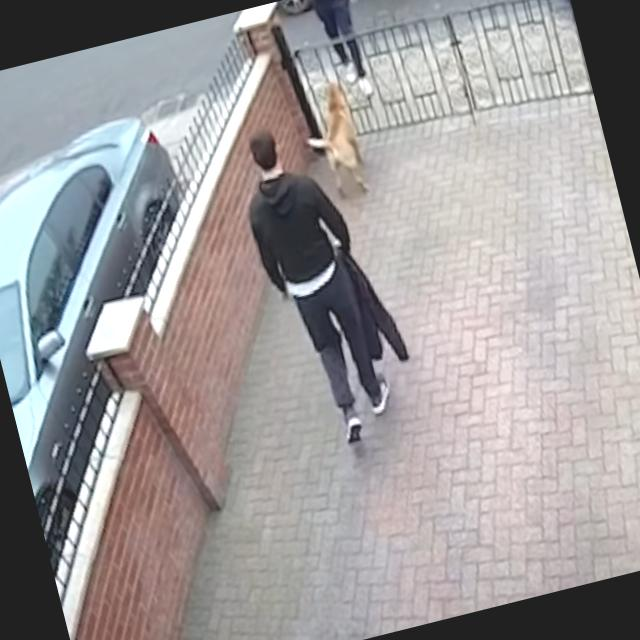person: (231, 114, 401, 450), (307, 0, 380, 105)
